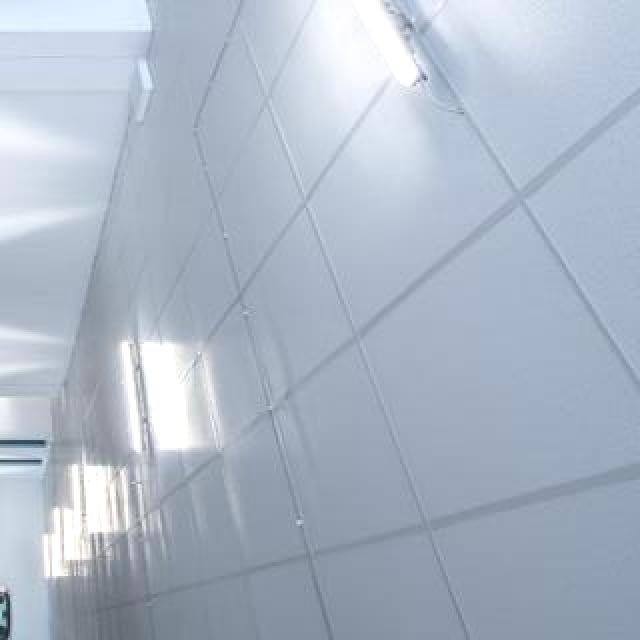fluorescent tube: (282, 0, 436, 112), (115, 313, 149, 469), (62, 447, 93, 544)
